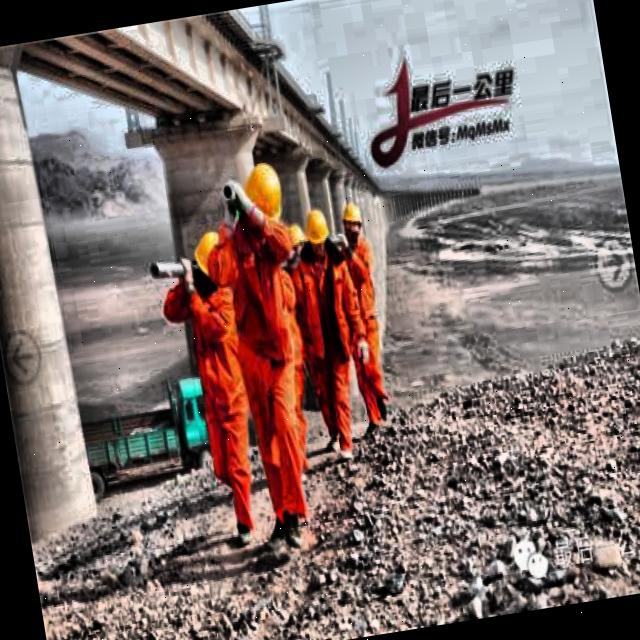helmet: (237, 154, 296, 236), (186, 224, 237, 296), (294, 196, 334, 262), (334, 193, 372, 251)
